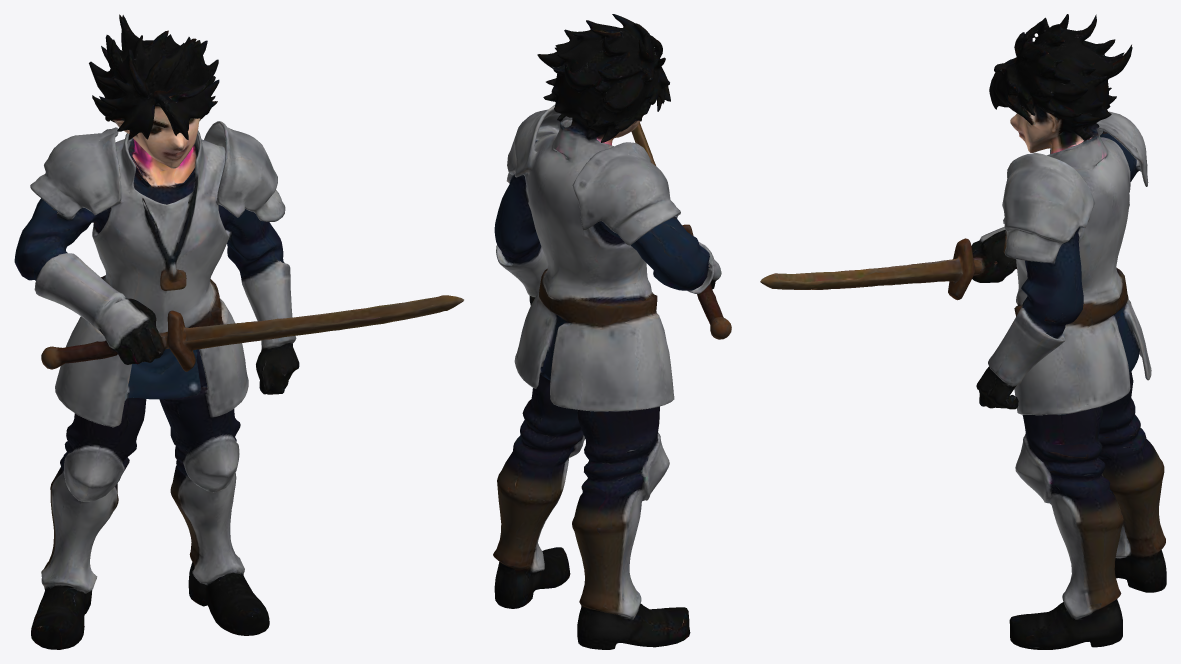
File: recruit.glb
The picture shows the model from 3 angles, left to right: view 1: azimuth 30°, elevation 25°; view 2: azimuth 150°, elevation 25°; view 3: azimuth 270°, elevation 25°; orthographic projection. The views are drawn at different scales.
Bounding box in the file's own units: 0.4478 × 0.9626 × 0.6089.
1 material, 1 textured.
